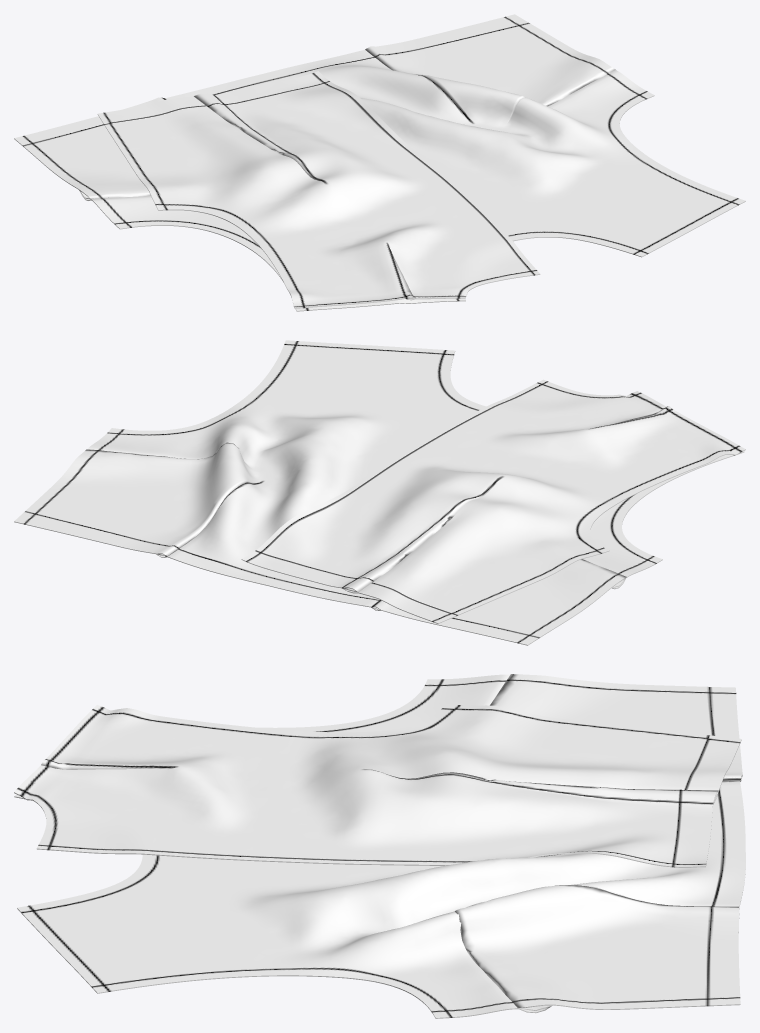
The model's file is fenghehou.fbx.
3 renders of one model, top to bottom at view 1: azimuth 30°, elevation 25°; view 2: azimuth 150°, elevation 25°; view 3: azimuth 270°, elevation 25°, orthographic. The views are drawn at different scales.
Parts seen in each view (by area): view 1: jianfengfenghe_hou; view 2: jianfengfenghe_hou; view 3: jianfengfenghe_hou.
Boxes of the visible parts, x1,y1,x2,y2 form: jianfengfenghe_hou: (14, 14, 745, 311); jianfengfenghe_hou: (14, 340, 745, 645); jianfengfenghe_hou: (14, 674, 745, 1018).
Size of the model in its own units: 42.12 by 1.76 by 38.45.
1 material, 1 textured.
